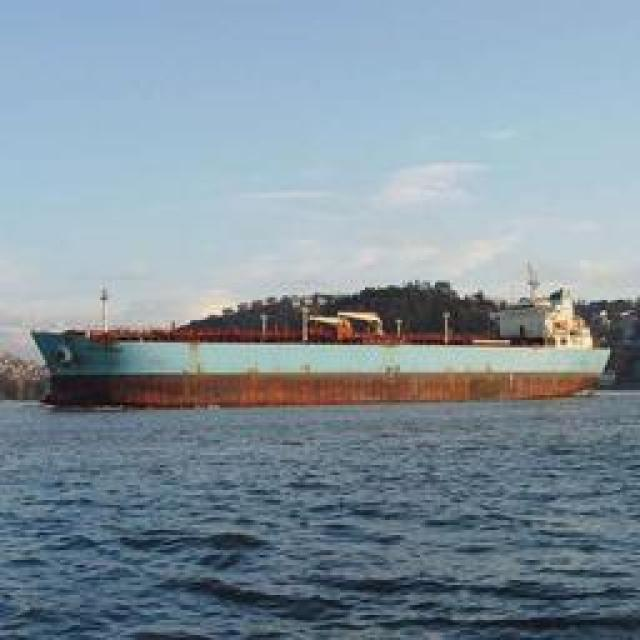CIV_Ship: (44, 305, 614, 403)
